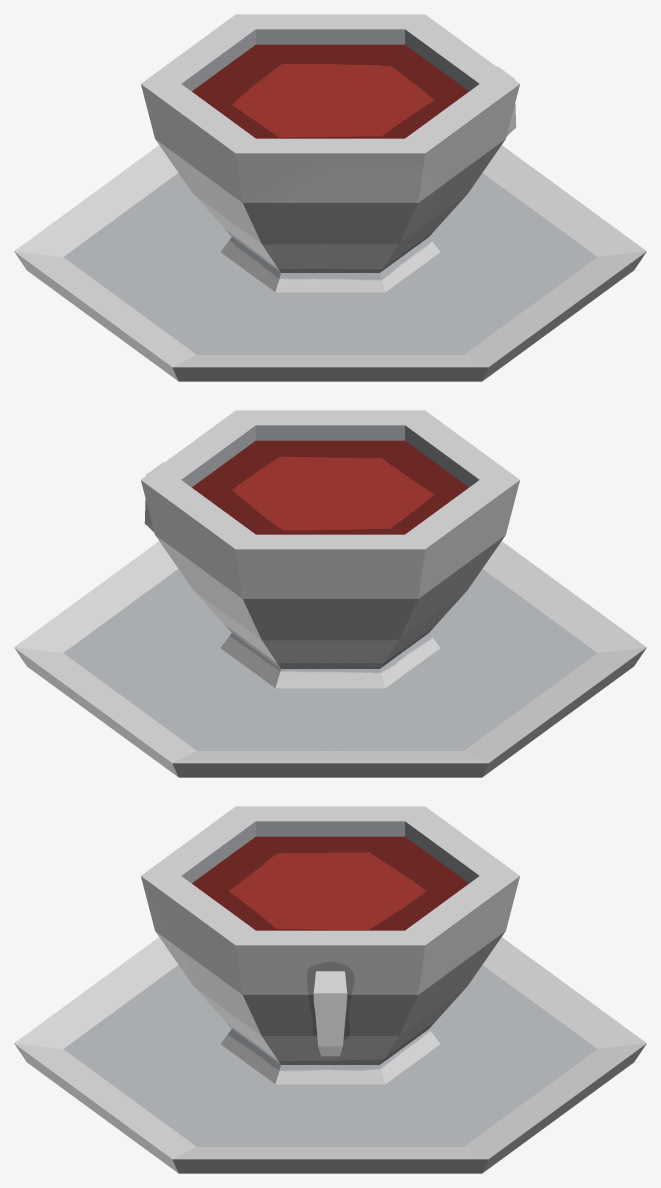
File: Tea.glb
3 renders of one model, top to bottom at view 1: azimuth 30°, elevation 25°; view 2: azimuth 150°, elevation 25°; view 3: azimuth 270°, elevation 25°, orthographic.
Visible parts, largest first — view 1: Tasa de te; view 2: Tasa de te; view 3: Tasa de te.
Boxes of the visible parts, x1,y1,x2,y2 form: Tasa de te: (14, 14, 646, 381); Tasa de te: (14, 410, 646, 777); Tasa de te: (14, 806, 646, 1173).
Size of the model in its own units: 33.98 by 12.75 by 39.23.
1 material, 1 textured.
